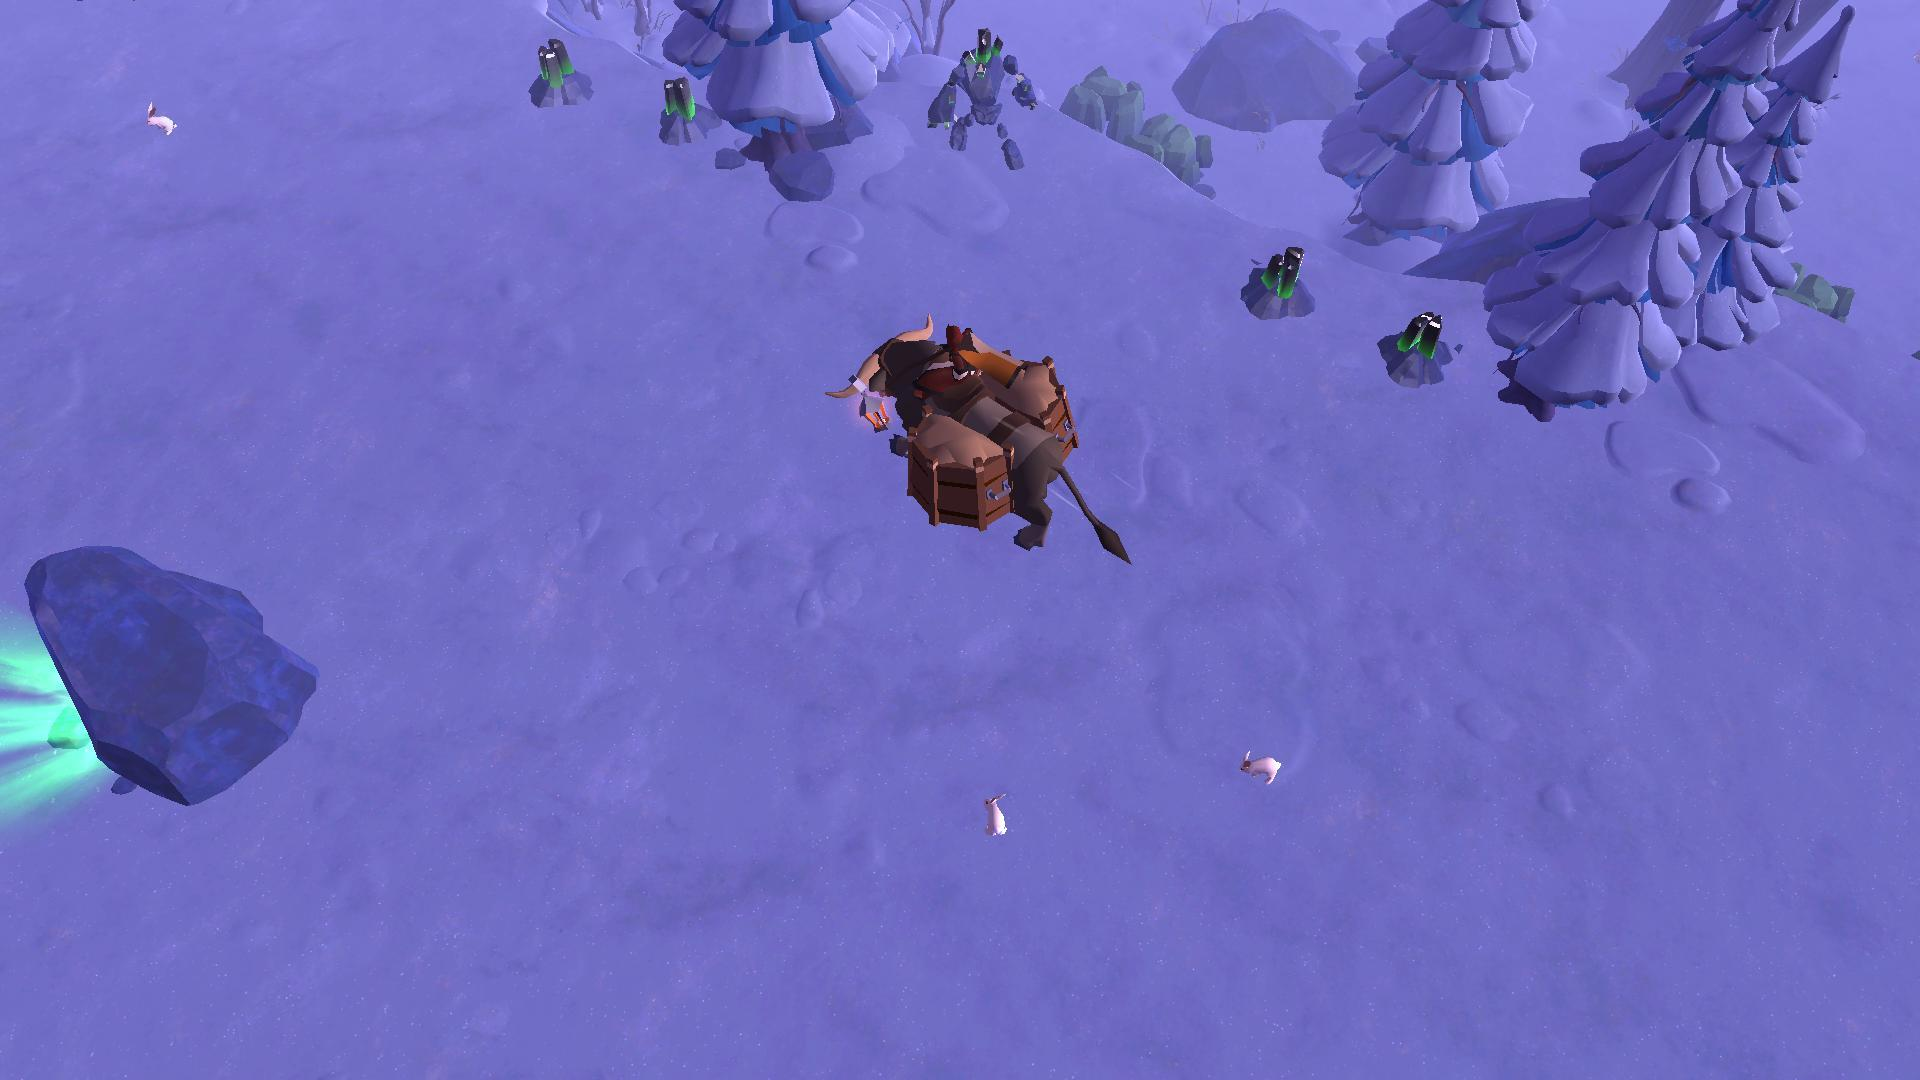depletedmobOre_t3: (918, 24, 1040, 162)
ore_t3: (1245, 232, 1313, 311), (1383, 301, 1452, 373), (646, 67, 708, 142), (526, 30, 579, 105)
rock_t3: (1056, 58, 1141, 150), (1135, 108, 1220, 194), (1770, 265, 1859, 322)
